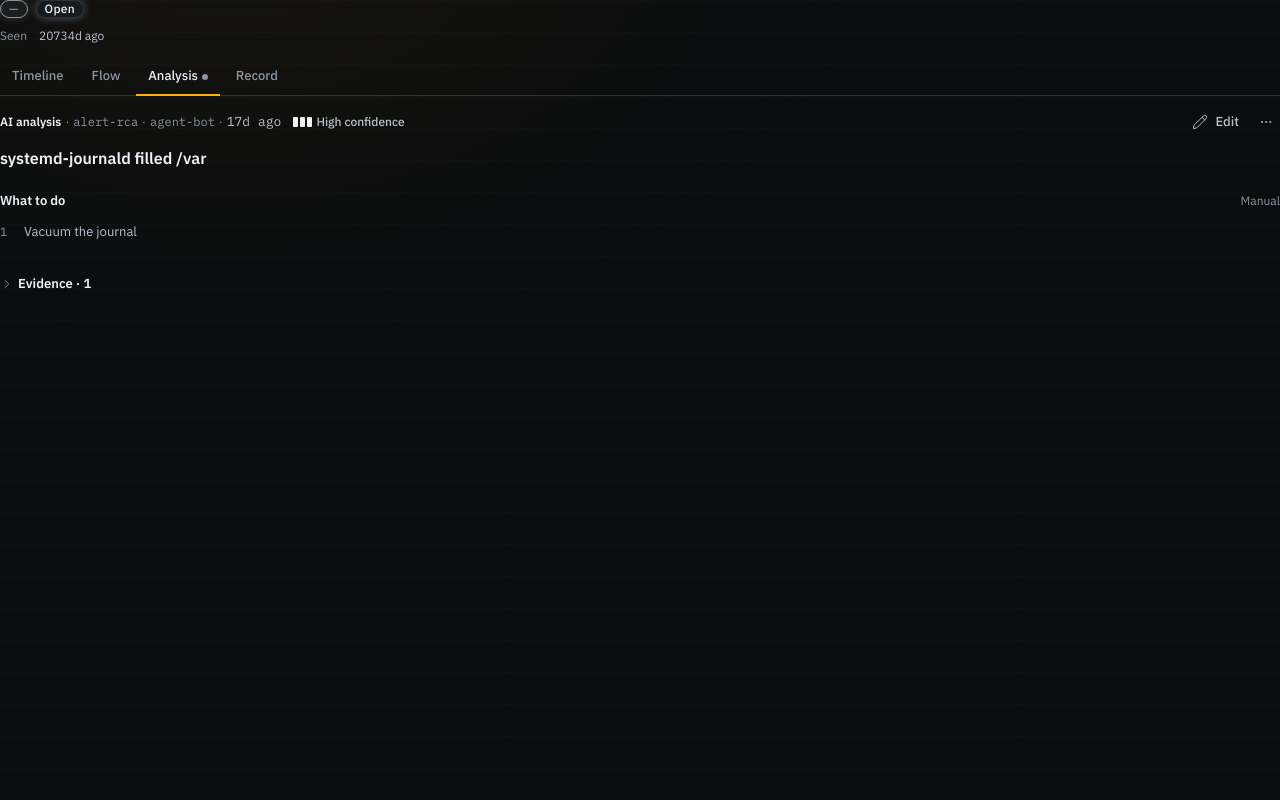
Test: AlertRowDetail › asks before a tab switch discards an open analysis editor
This screenshot has width=1280, height=800.
Click the button "Edit": click(1215, 122) x1=1182 y1=108 x2=1248 y2=136
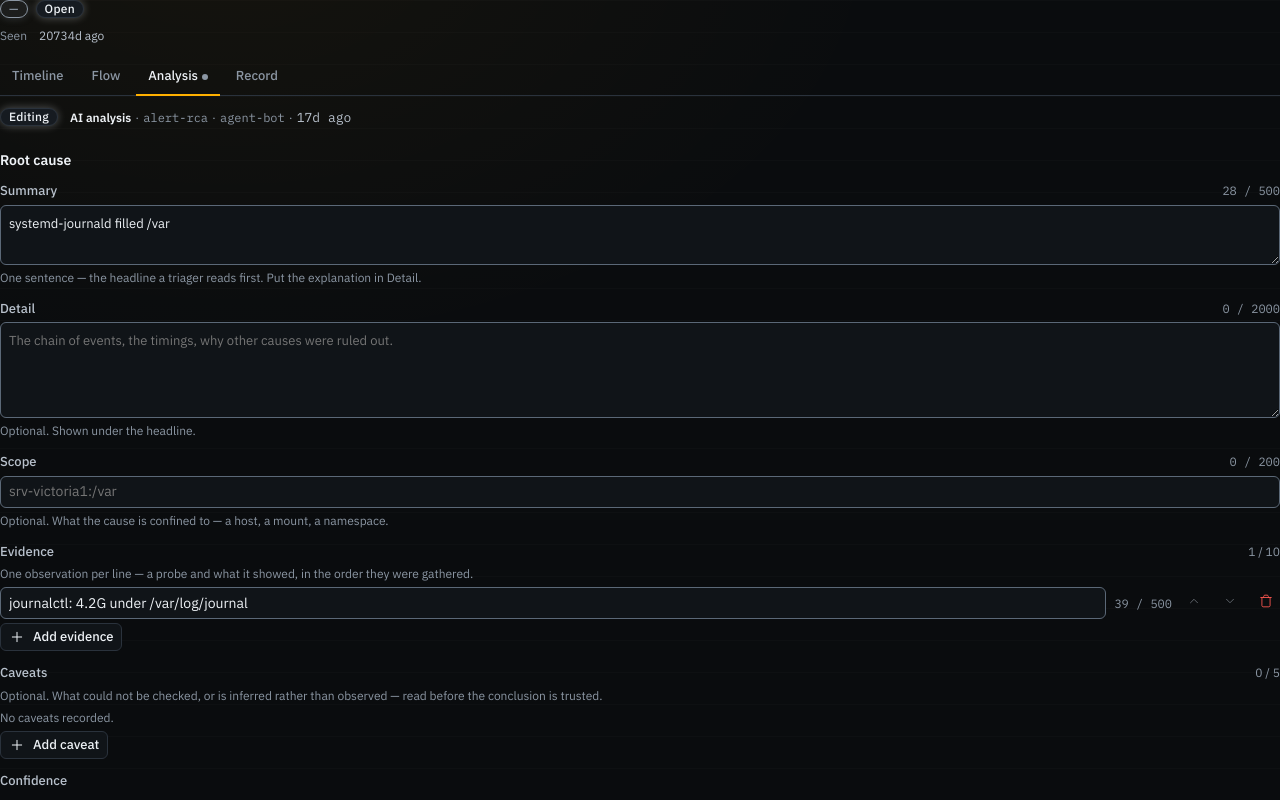
Result: the text box labelled "Summary" is shown at x1=0 y1=205 x2=1279 y2=265
Click the tab "Timeline": click(38, 77) x1=0 y1=58 x2=76 y2=96
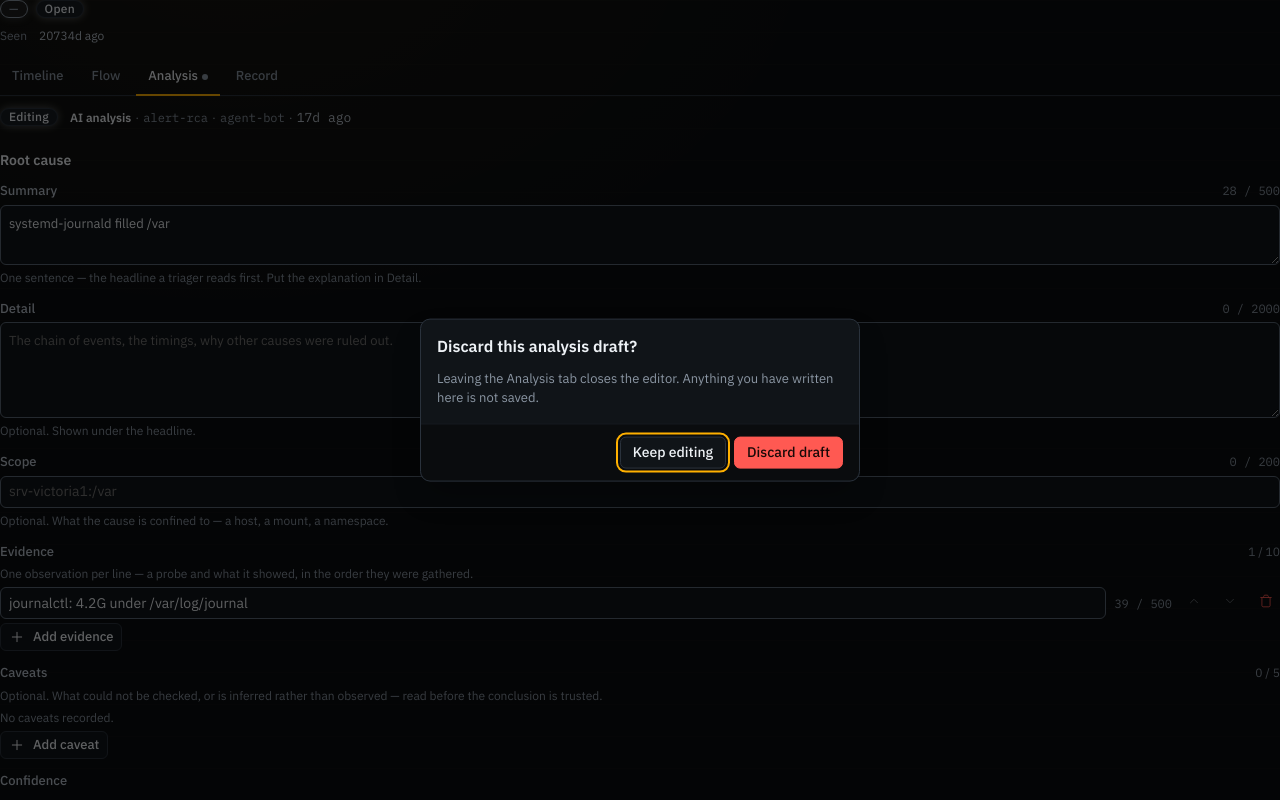
Click the button "Keep editing": click(673, 452) x1=620 y1=436 x2=726 y2=468
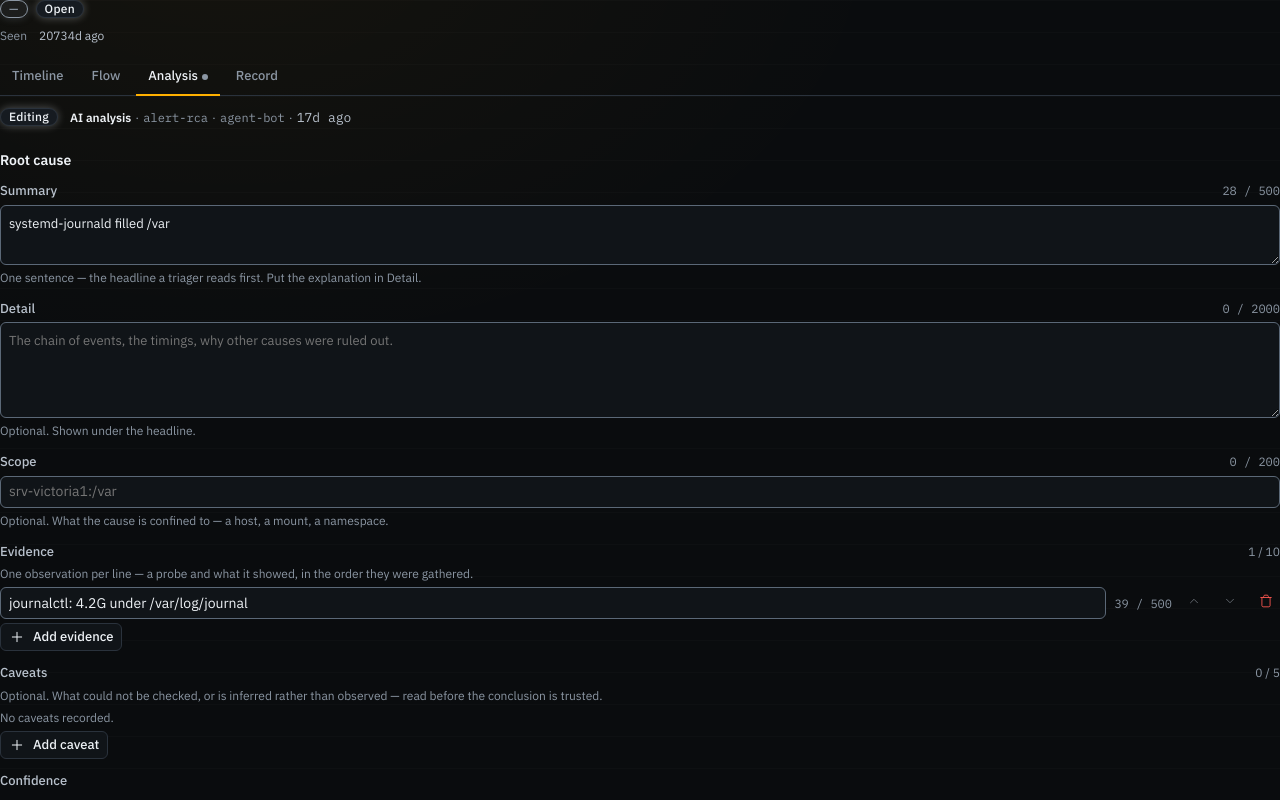
Result: the text box labelled "Summary" is shown at x1=0 y1=205 x2=1279 y2=265
Asked again and answered, the switch goes through.
Click the tab "Timeline": click(38, 77) x1=0 y1=58 x2=76 y2=96
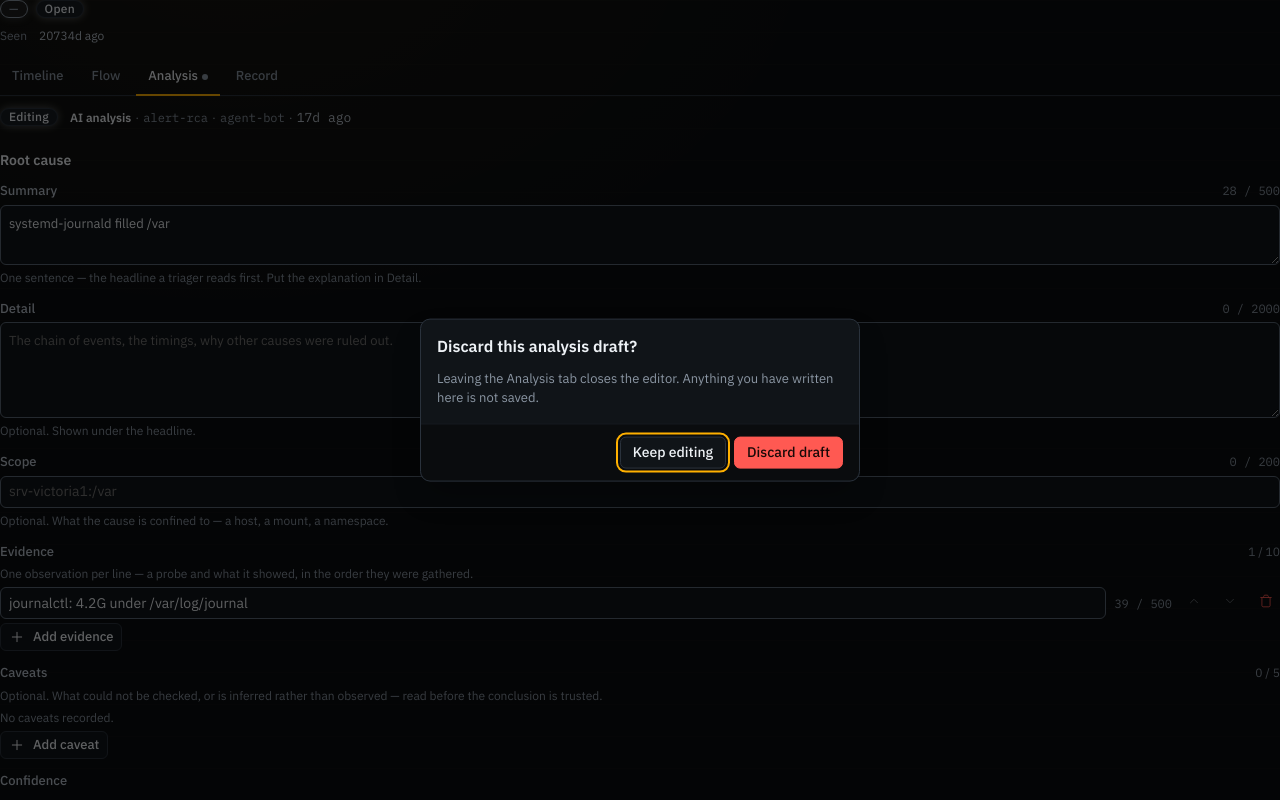
Click the button "Discard draft": click(788, 452) x1=734 y1=436 x2=843 y2=468
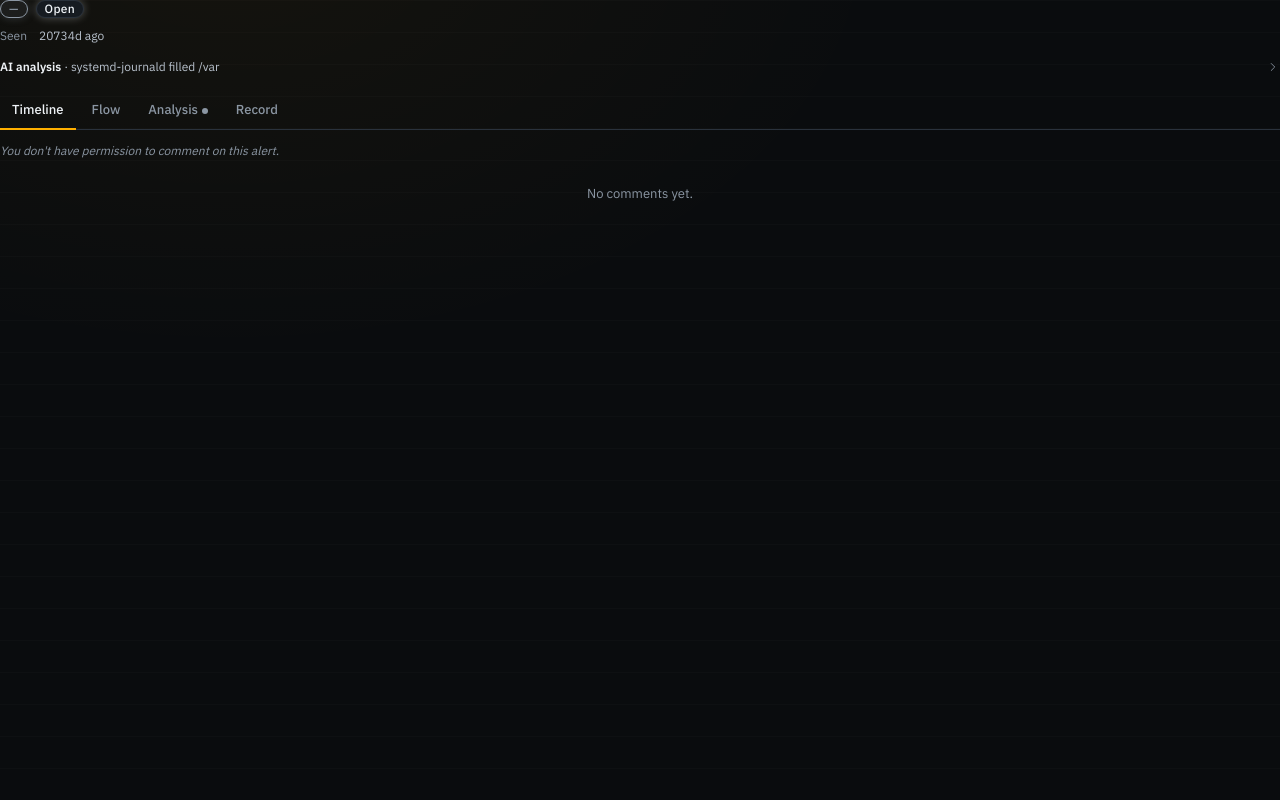
Result: the label labelled "Summary" is gone
